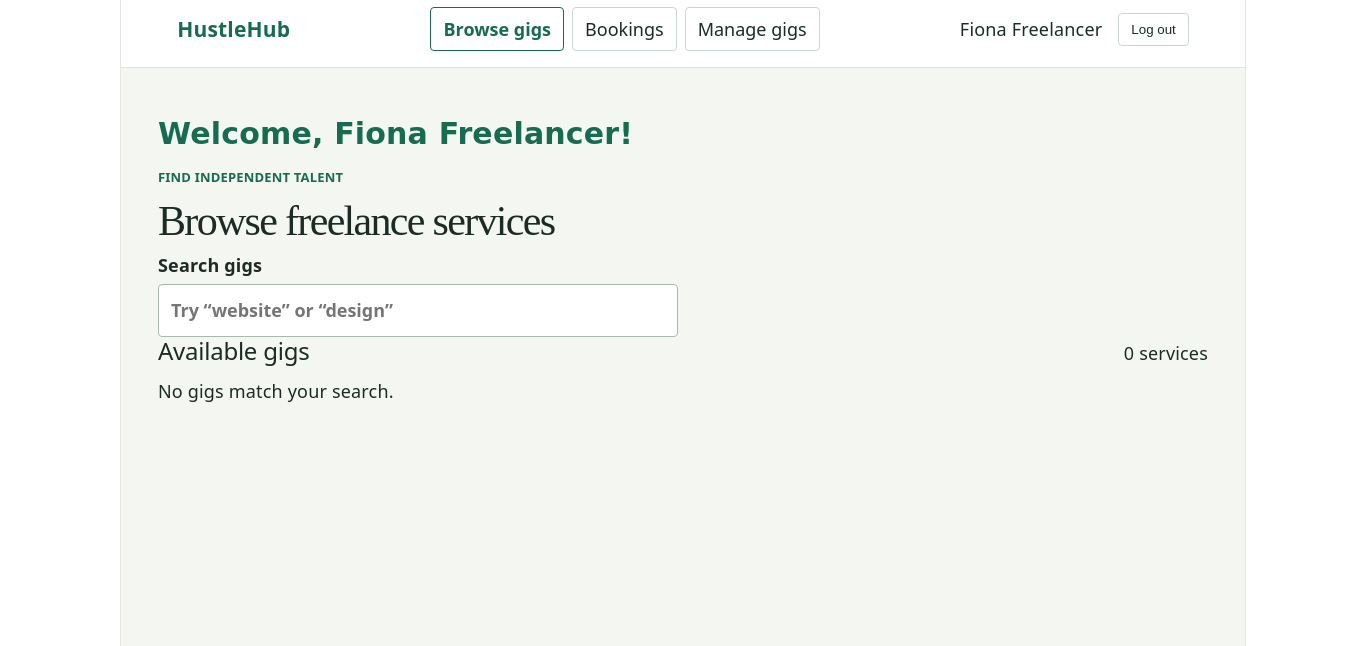
Test: GigBrowser gig management › editing a gig fills the form with readable text, not escaped entities
What coordinates should you click on to do the following:
click the button "Manage gigs"
I would click on:
 (752, 29)
Its box is top-left (685, 7), bottom-right (820, 51).
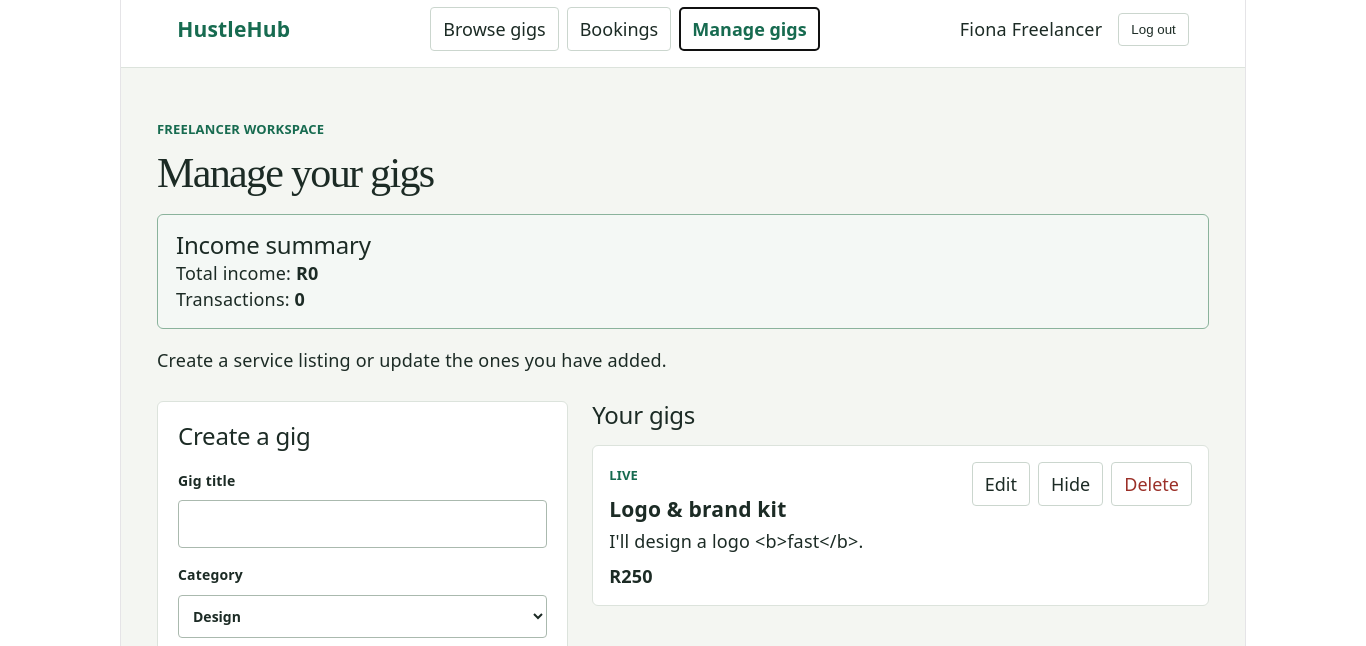
What coordinates should you click on to do the following:
click the button "Edit"
I would click on:
 (1001, 484)
Its box is top-left (972, 462), bottom-right (1030, 506).
(page scrolled)
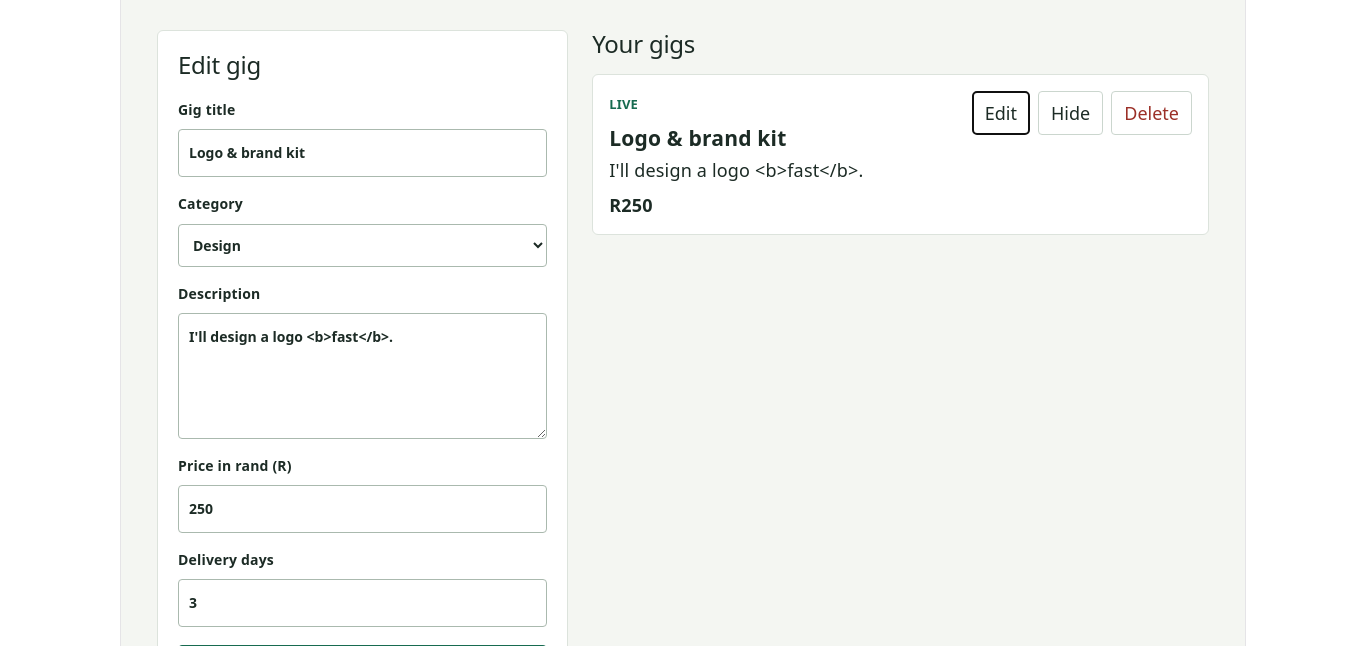
Now the field labelled "Gig title" holds "Logo & brand kit", box top-left (178, 129), bottom-right (547, 178)
Now the text box labelled "Description" holds "I'll design a logo <b>fast</b>.", box top-left (178, 313), bottom-right (547, 439)
